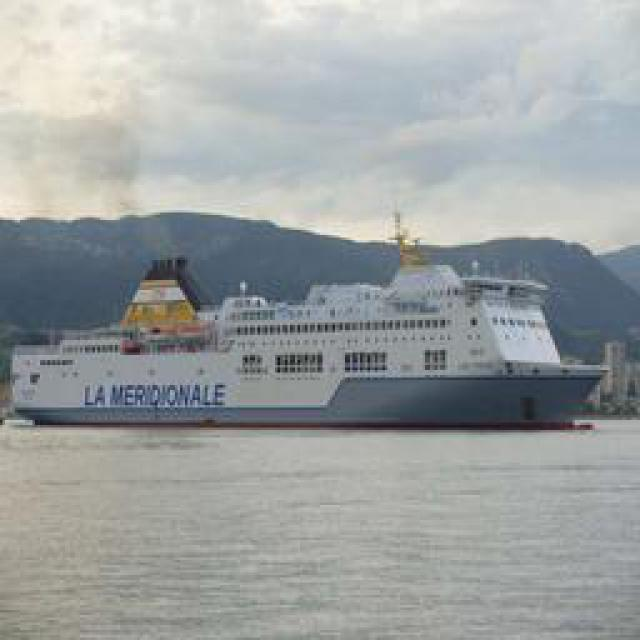Ship: (15, 252, 610, 432)
